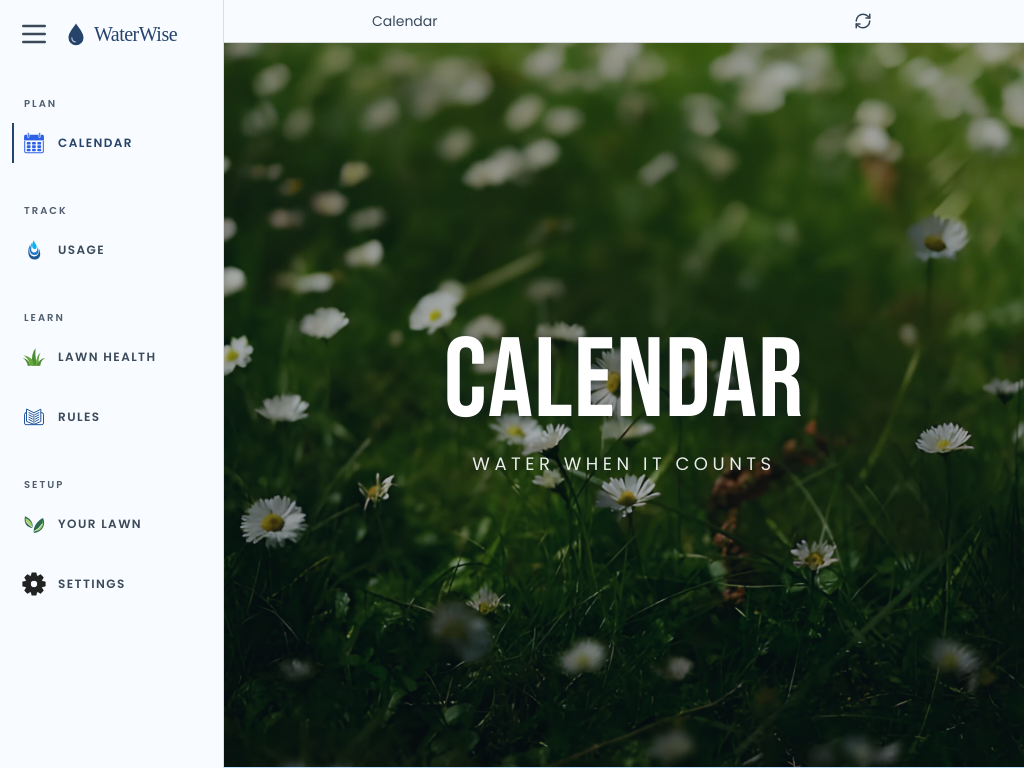
Test: app UI › collapses the side menu
Click the button named "Collapse menu": click(34, 34) [12, 12, 56, 56]
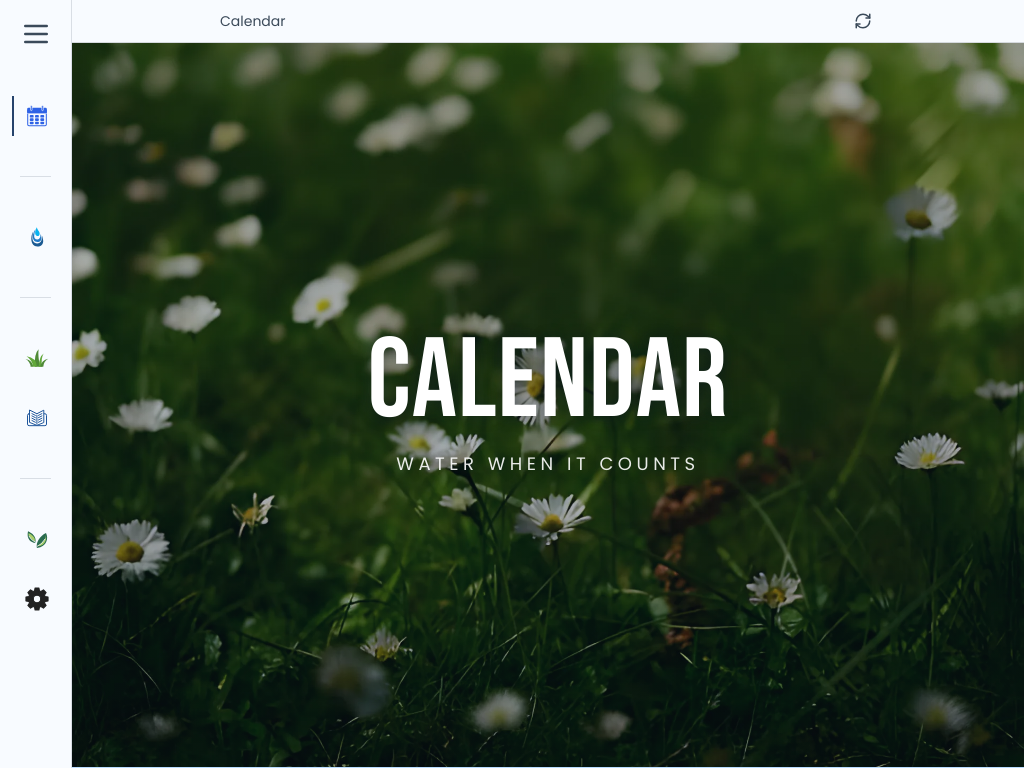
Now the button named "Expand menu" is collapsed, box [14, 12, 58, 56]
